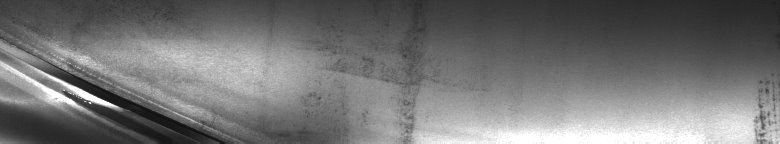ke: (4, 28, 415, 136)
